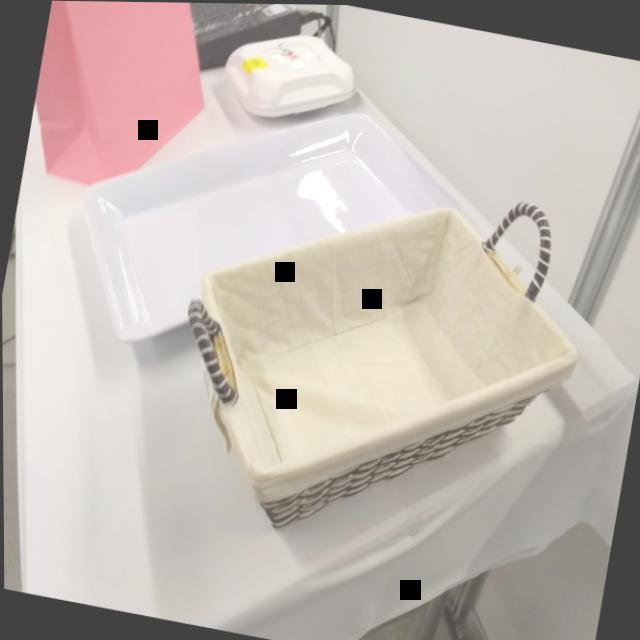basket: (160, 145, 608, 581)
tray: (46, 59, 471, 411)
